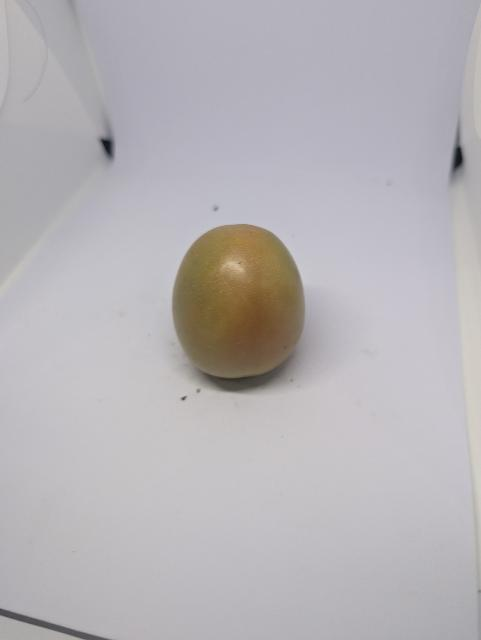breaker: (173, 224, 305, 378)
